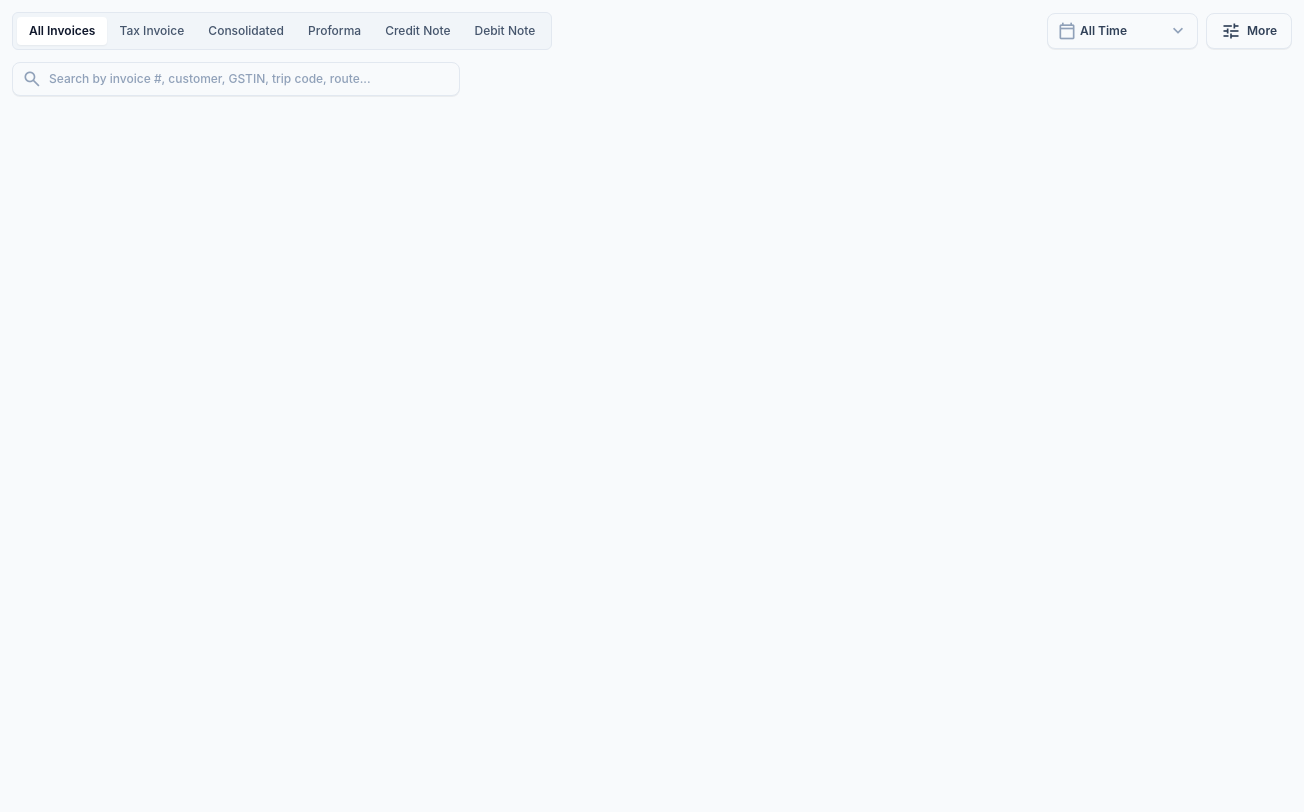
Test: InvoiceToolbar › closes More Filters when clicking outside
This screenshot has width=1304, height=812.
Step 1. Click the button with aria-label "More Filters" → (1249,31), box [1206,13,1292,49]
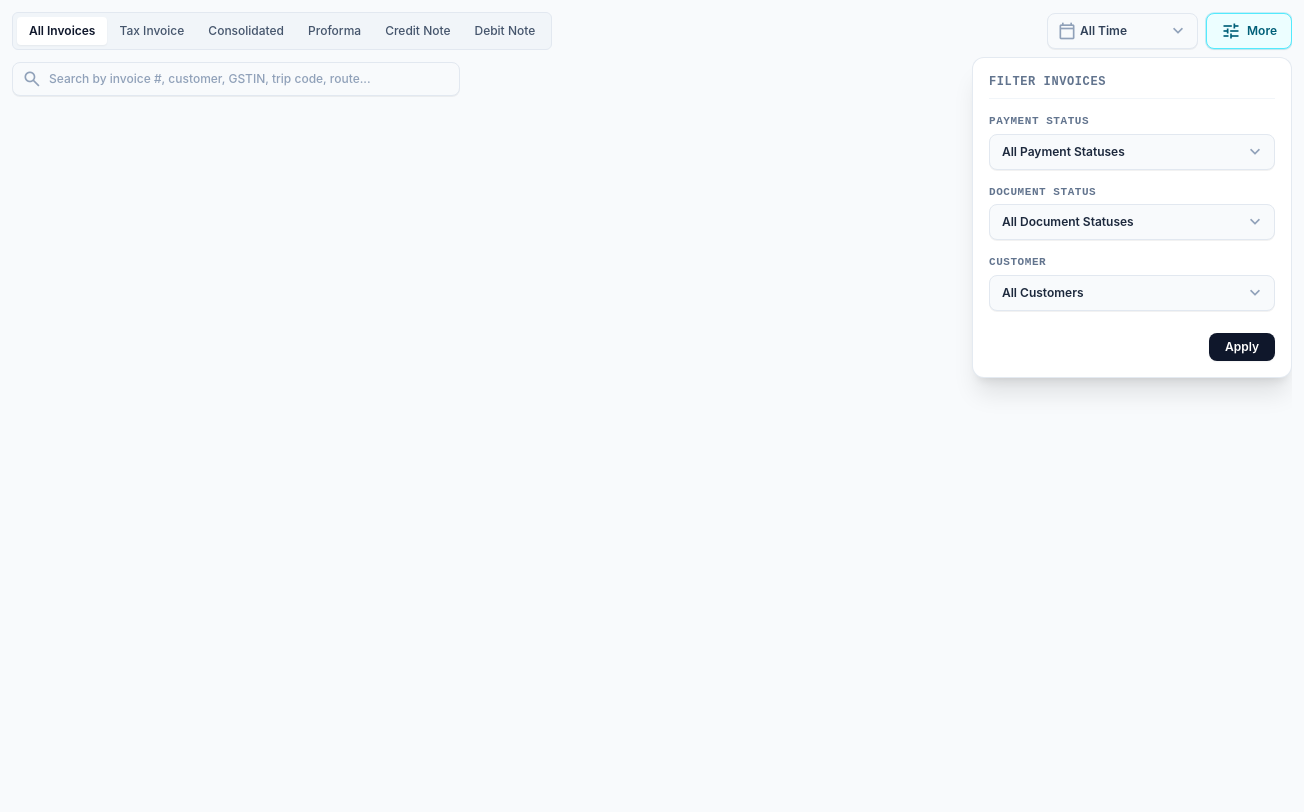
expect the text "Filter Invoices" is shown: met, box [989,74,1106,90]
Step 2. Press the mouse on the element that starts with "All Invoices" → (652,412), box [12,12,1292,811]
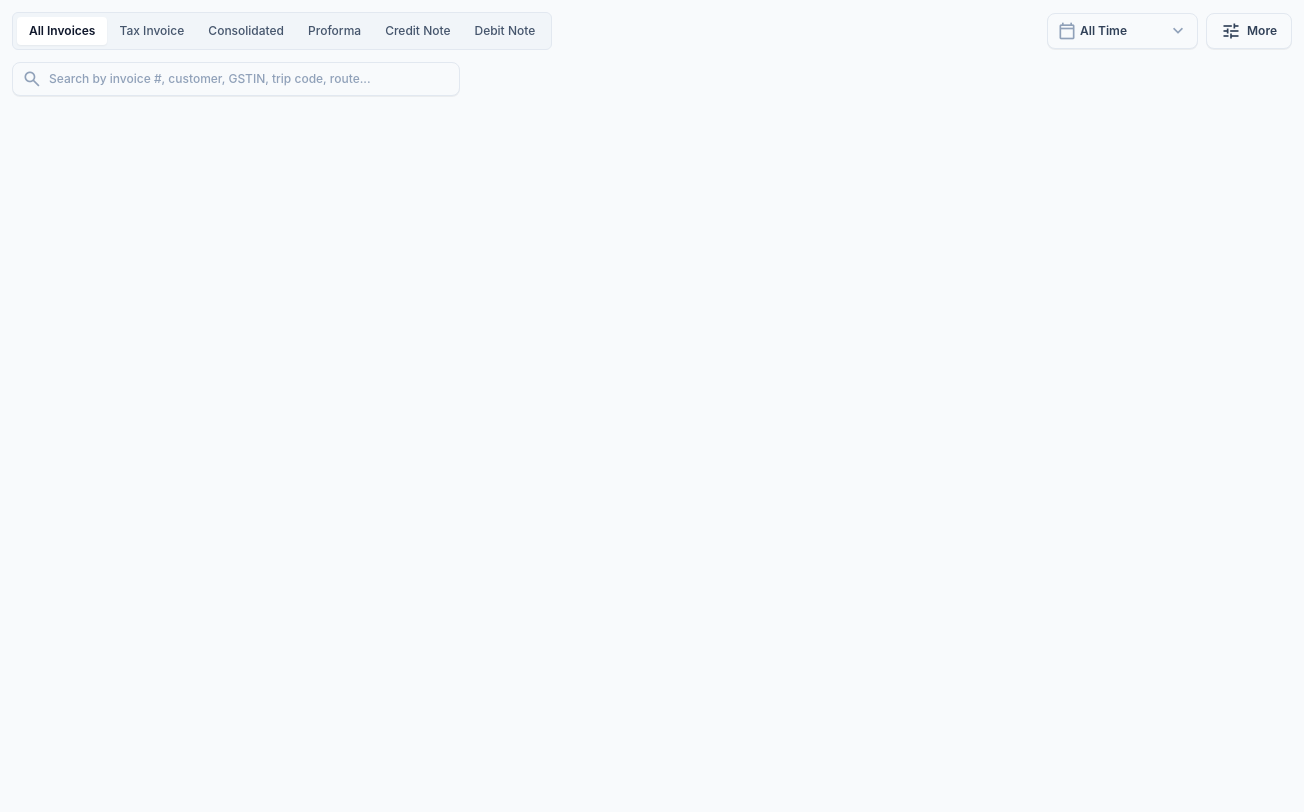
expect the text "Filter Invoices" is gone: met
